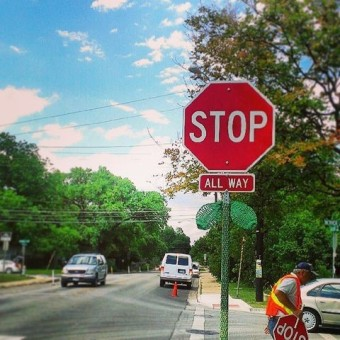SS: (179, 81, 275, 171)
